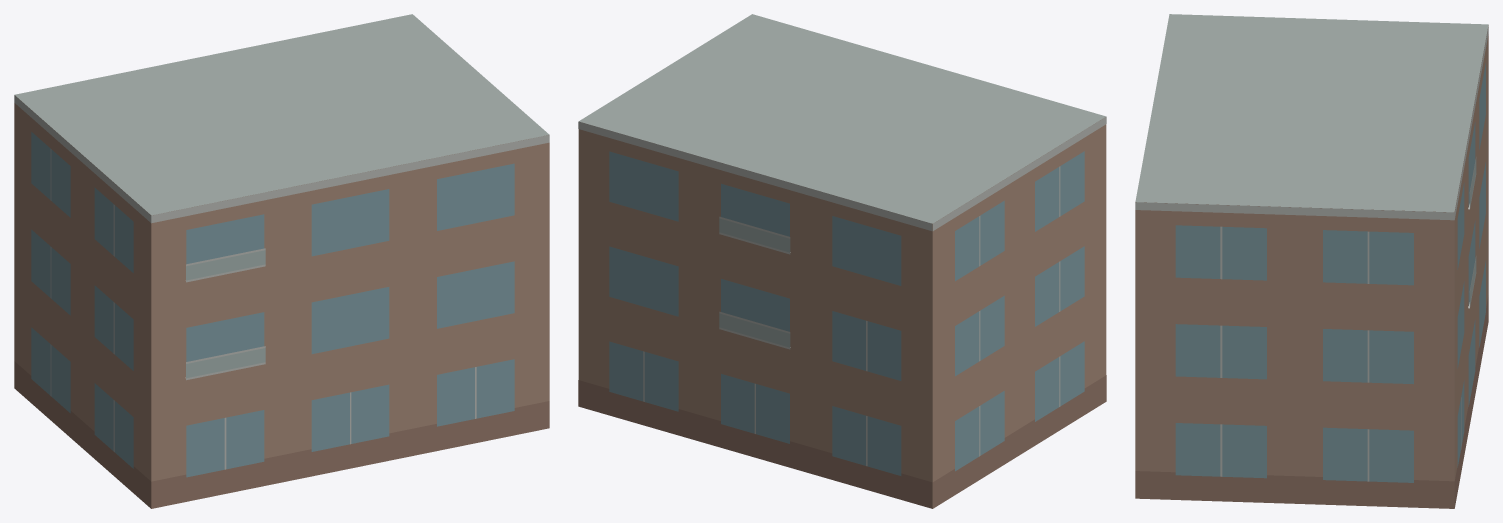
File: survey-upis-32909996.glb
3 renders of one model, left to right at view 1: azimuth 30°, elevation 25°; view 2: azimuth 150°, elevation 25°; view 3: azimuth 270°, elevation 25°, orthographic. The views are drawn at different scales.
Parts seen in each view (by area): view 1: survey-upis-32909996.tmp; view 2: survey-upis-32909996.tmp; view 3: survey-upis-32909996.tmp.
Boxes of the visible parts, x1,y1,x2,y2 form: survey-upis-32909996.tmp: (14, 14, 549, 508); survey-upis-32909996.tmp: (578, 14, 1106, 508); survey-upis-32909996.tmp: (1135, 14, 1488, 508).
Bounding box in the file's own units: 13.14 × 9.15 × 9.89.
